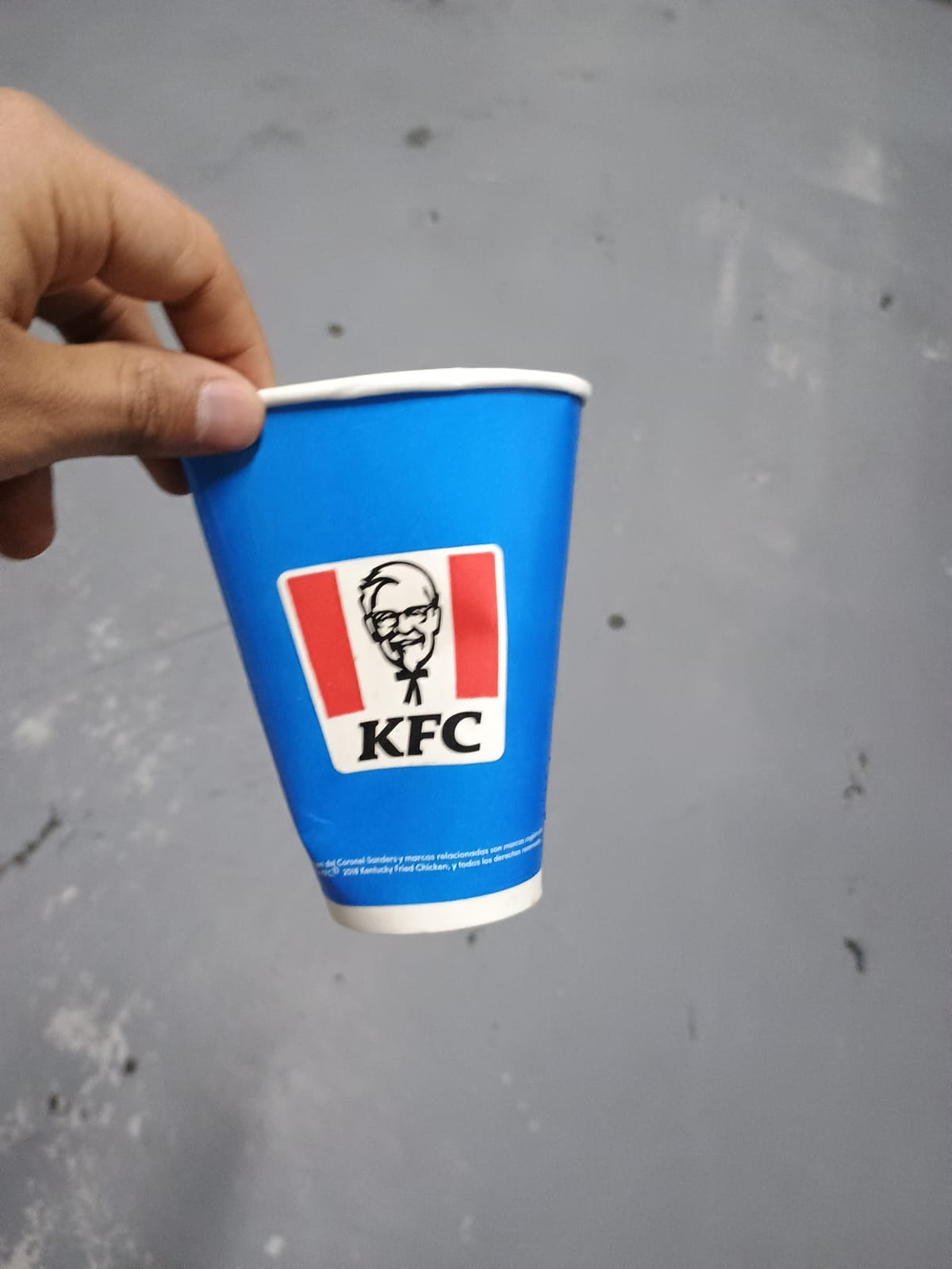Carton: (184, 365, 591, 938)
